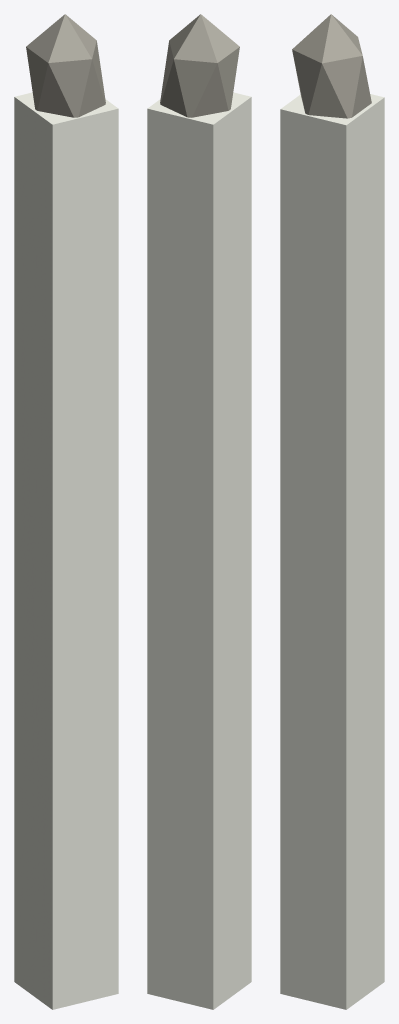
The model's file is Fence_Low_B.fbx.
3 renders of one model, left to right at view 1: azimuth 30°, elevation 25°; view 2: azimuth 150°, elevation 25°; view 3: azimuth 330°, elevation 25°, orthographic.
Parts seen in each view (by area): view 1: Fence_Low_B; view 2: Fence_Low_B; view 3: Fence_Low_B.
Boxes of the visible parts, x1,y1,x2,y2 form: Fence_Low_B: (14, 14, 118, 1009); Fence_Low_B: (147, 14, 251, 1009); Fence_Low_B: (280, 14, 384, 1009).
Size of the model in its own units: 5 by 70.44 by 5.
